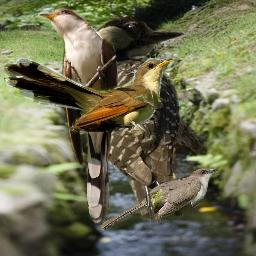Cuckoo: (38, 7, 119, 225), (4, 58, 175, 134), (100, 167, 218, 230)
Woodpecker: (88, 15, 209, 225)
